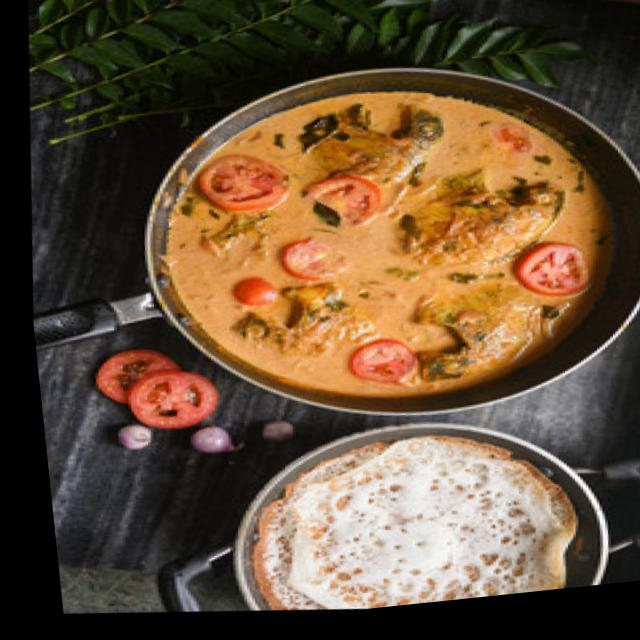AAPAM: (253, 436, 574, 608)
FISH CURRY: (154, 92, 607, 400)
